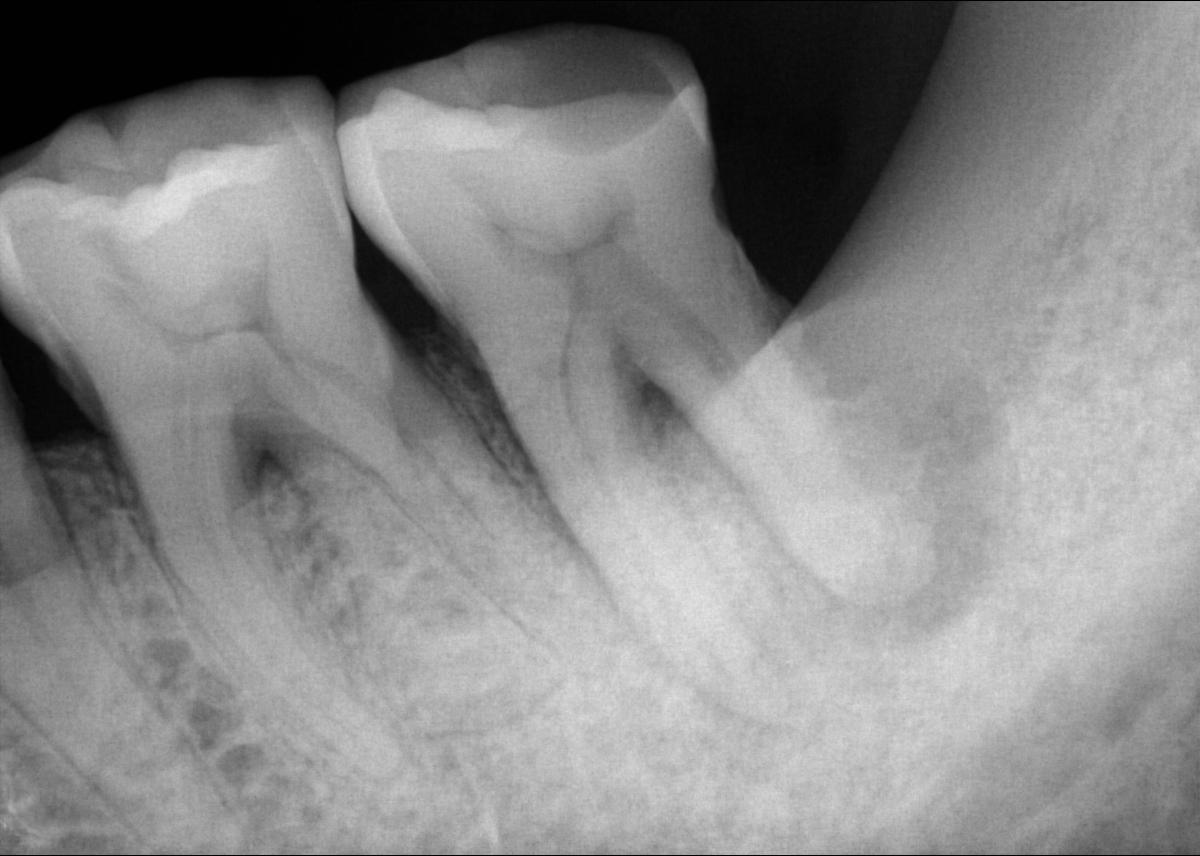Endo-Periodontal Lesion: (638, 376, 700, 458), (242, 434, 301, 501)
Furcation Involvement: (788, 312, 1017, 638)
